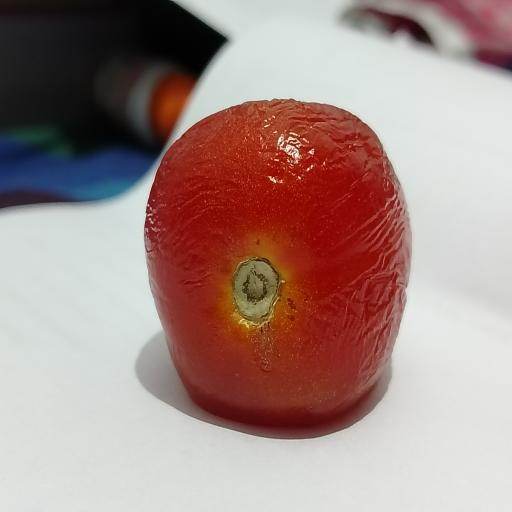spoiled: (144, 100, 411, 424)
